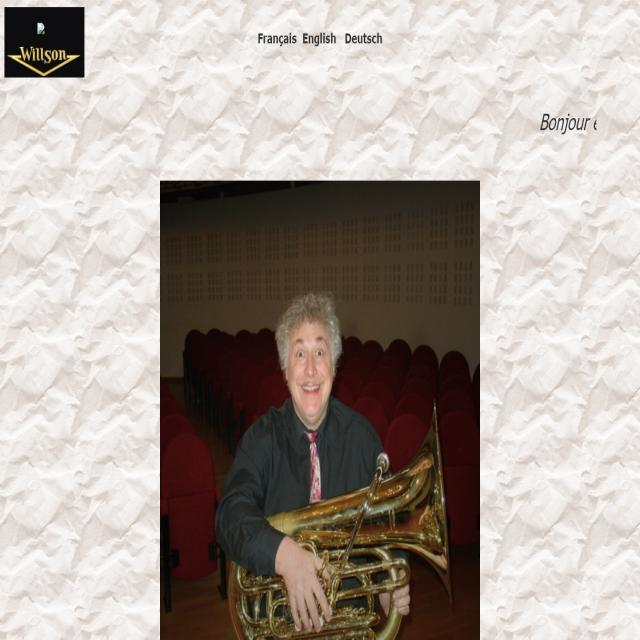image: (6, 7, 86, 73)
text: (256, 31, 383, 51), (536, 108, 594, 138)
